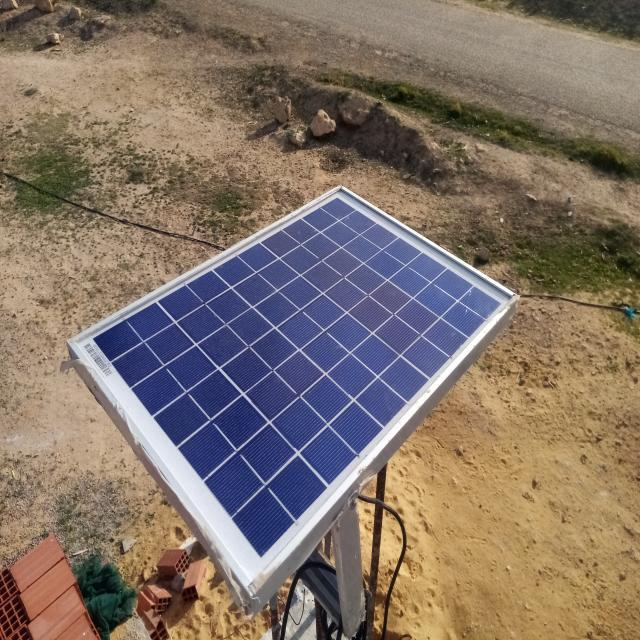no faulty: (66, 186, 516, 593)
